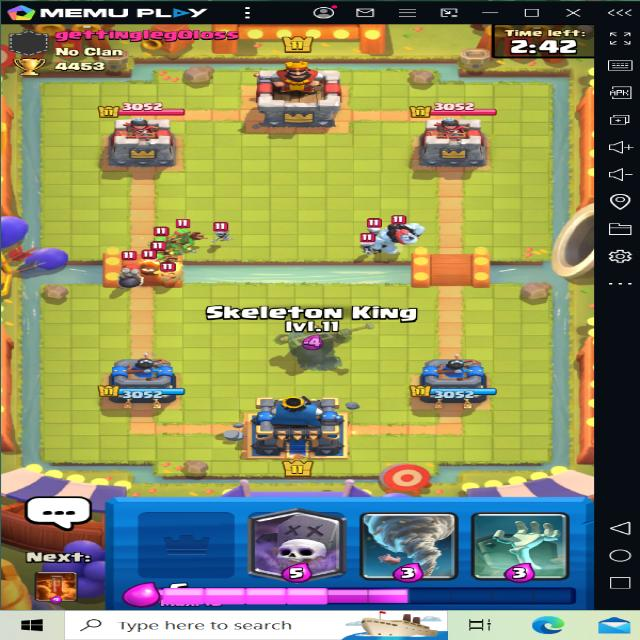bomber: (112, 264, 149, 290)
fire-spirit: (132, 249, 166, 278)
heal-spirit: (155, 260, 191, 289)
ice-golem: (374, 216, 432, 263)
skeleton: (209, 220, 239, 244), (355, 232, 381, 257), (362, 217, 386, 232)
spear-goblin: (139, 225, 181, 255), (172, 216, 203, 244)
